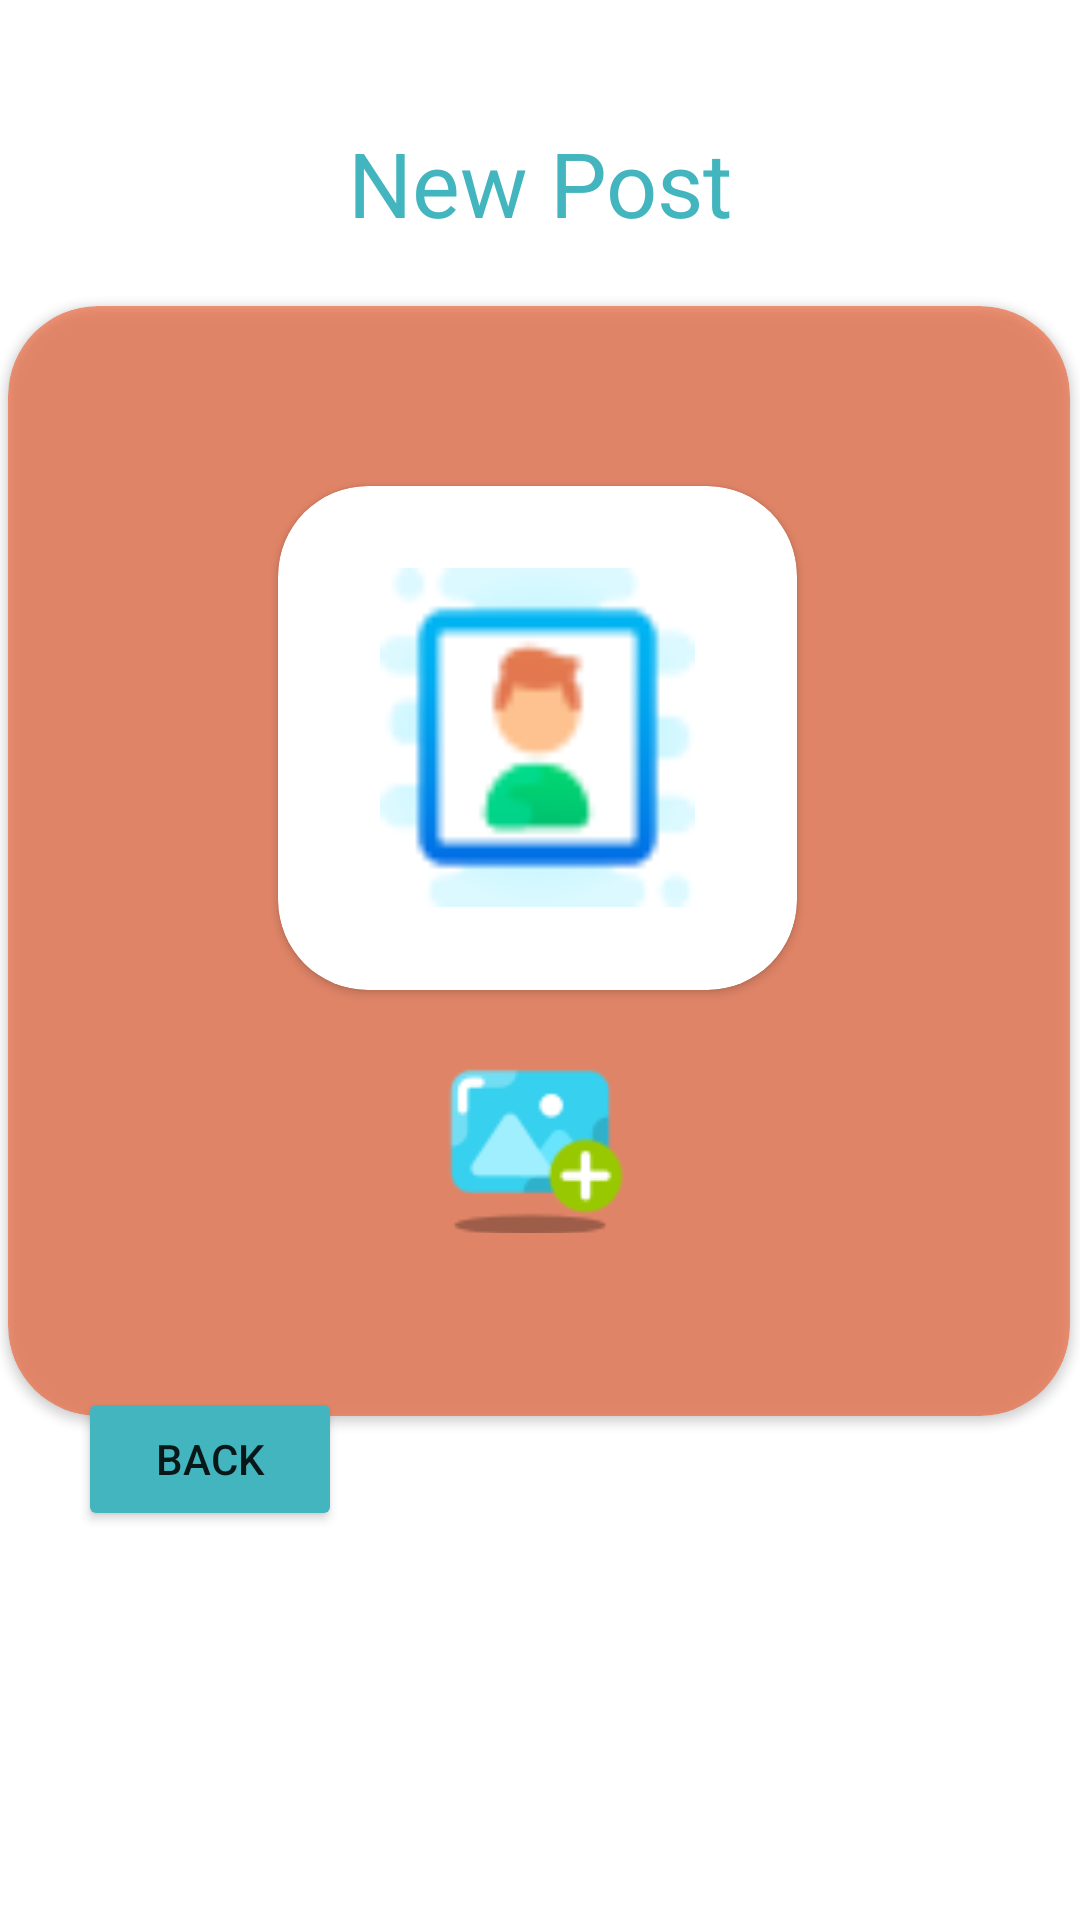

Named icons in this screenshot (1080 × 1920) and their bounding boxes, region(x1, y1, x2, y2):
add: region(449, 1069, 623, 1233)
